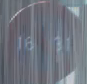No waiting: (9, 1, 79, 78)
